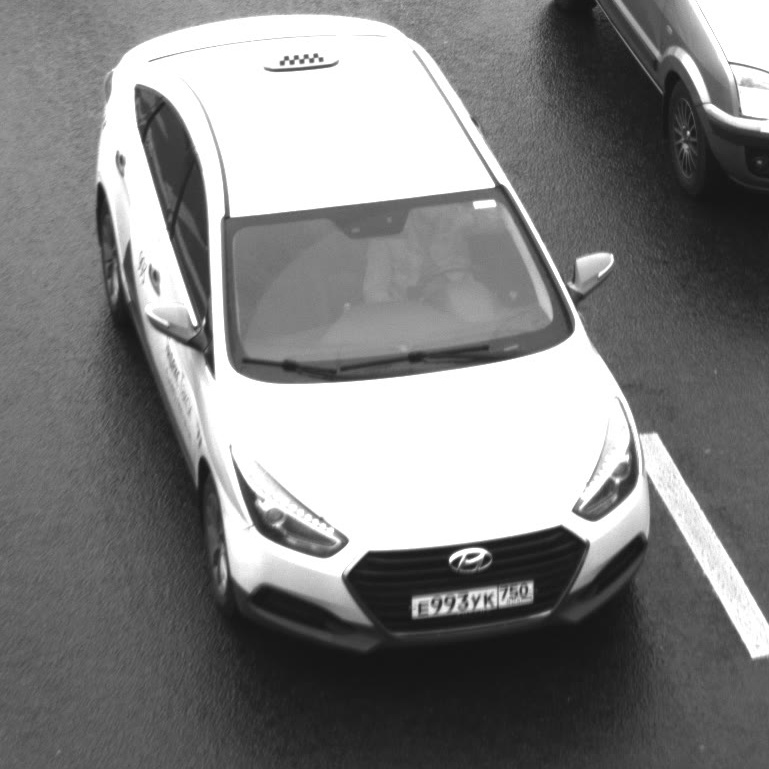plate: (399, 571, 542, 627)
